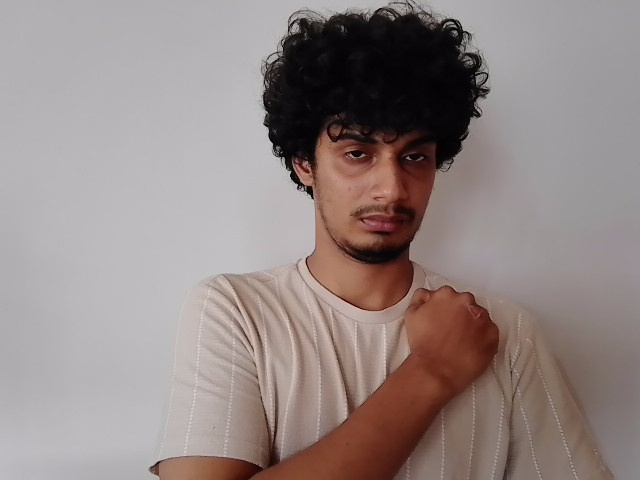sorry: (365, 266, 587, 447)
